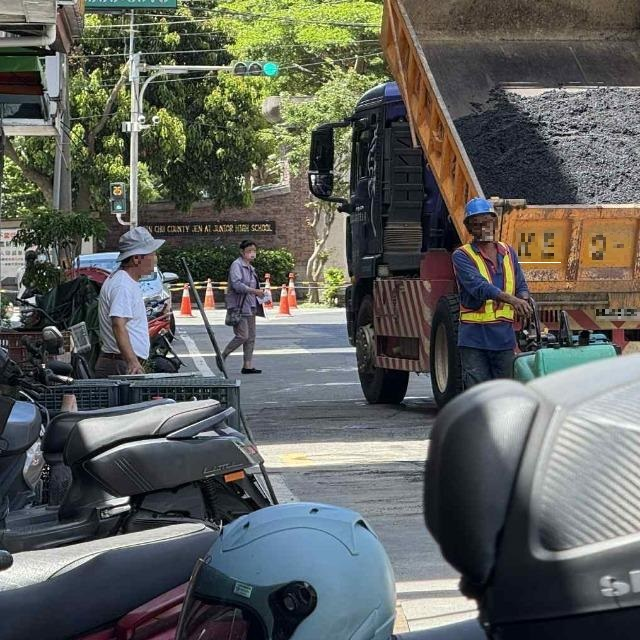Helmet: (460, 194, 503, 242)
NoHelmet: (109, 224, 168, 278)
NoVest: (94, 269, 160, 362)
Vest: (453, 237, 526, 329)
